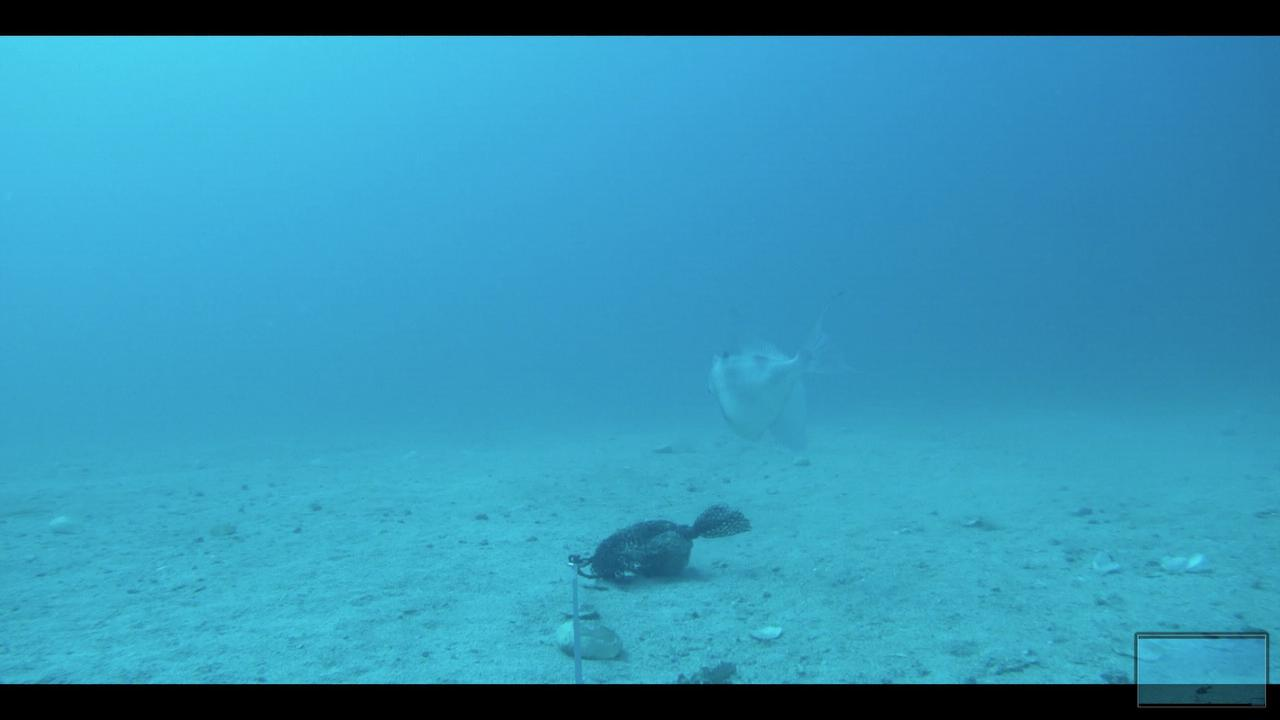balistes: (696, 286, 868, 460)
